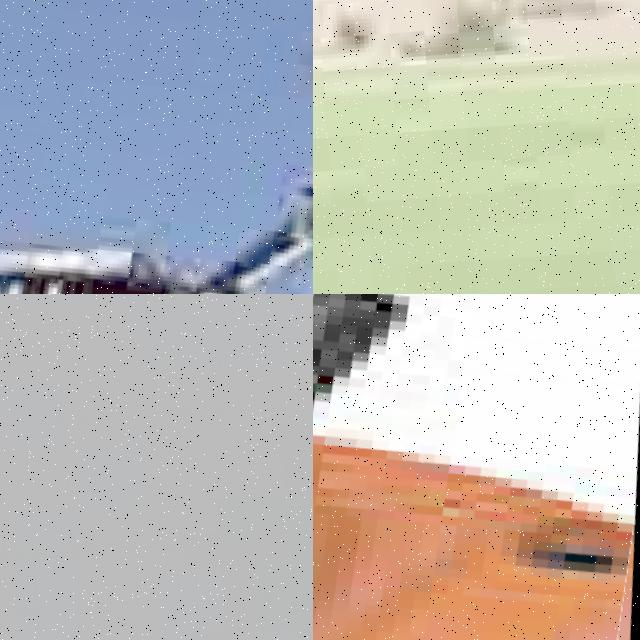drone: (313, 294, 640, 640), (0, 0, 313, 294)
